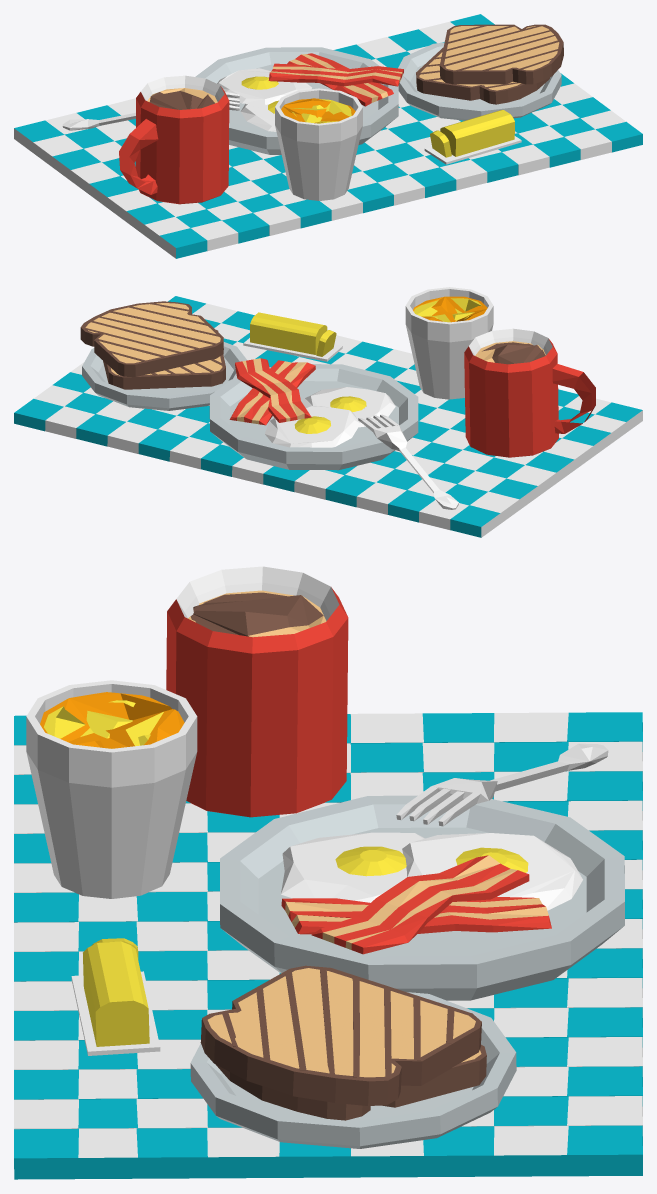
File: Breakfast.glb
3 renders of one model, top to bottom at view 1: azimuth 30°, elevation 25°; view 2: azimuth 150°, elevation 25°; view 3: azimuth 270°, elevation 25°, orthographic. The views are drawn at different scales.
Parts seen in each view (by area): view 1: Node; view 2: Node; view 3: Node.
Boxes of the visible parts, <box> form: Node: <box>14,14,642,258</box>; Node: <box>14,287,642,537</box>; Node: <box>14,566,642,1179</box>.
Size of the model in its own units: 0.4532 by 0.0957 by 0.2701.
